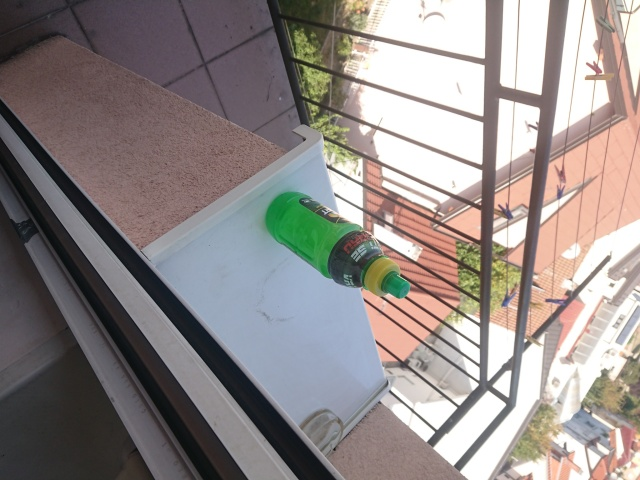Vindi Iso Sport Lemon-Grapefruit 500mL: (262, 189, 413, 301)
